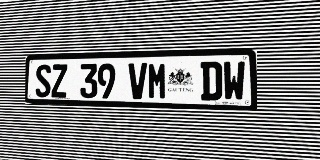3: (80, 64, 97, 98)
9: (98, 63, 115, 99)
D: (201, 61, 222, 101)
M: (148, 62, 167, 100)
S: (35, 64, 51, 97)
V: (128, 63, 147, 99)
W: (223, 61, 245, 101)
Z: (51, 64, 67, 98)
